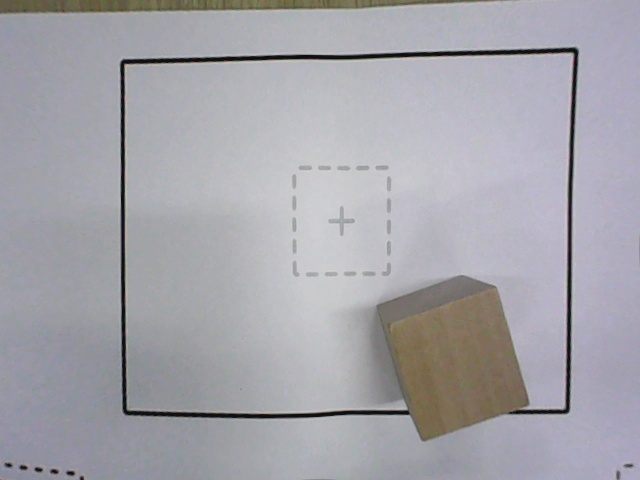upside of big cube: (388, 287, 530, 442)
